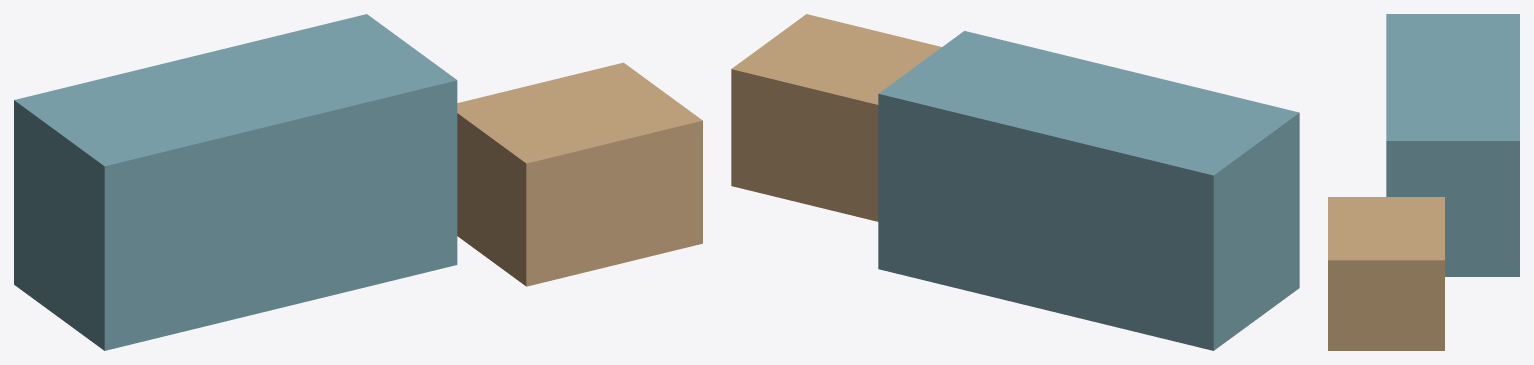
The model's file is task_proxy.glb.
3 views of the same model, side by side, from view 1: azimuth 30°, elevation 25°; view 2: azimuth 150°, elevation 25°; view 3: azimuth 270°, elevation 25° (orthographic). The views are drawn at different scales.
Visible parts, largest first — view 1: LIVING_SOFA, LIVING_TABLE; view 2: LIVING_SOFA, LIVING_TABLE; view 3: LIVING_SOFA, LIVING_TABLE.
Boxes of the visible parts, <box> form: LIVING_SOFA: <box>14,14,457,350</box>; LIVING_TABLE: <box>457,62,702,286</box>; LIVING_SOFA: <box>878,31,1299,350</box>; LIVING_TABLE: <box>731,14,941,221</box>; LIVING_SOFA: <box>1386,14,1519,276</box>; LIVING_TABLE: <box>1328,197,1444,350</box>.
Bounding box in the file's own units: 2.85 × 0.9 × 1.15.
